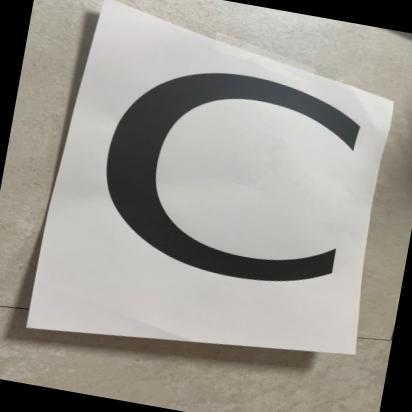seat: (66, 37, 384, 349)
